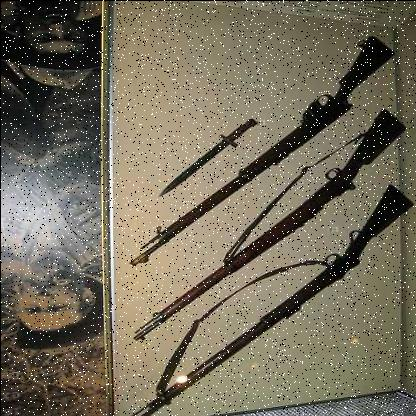rifle: (117, 104, 403, 346), (116, 184, 406, 416), (123, 32, 389, 275)
